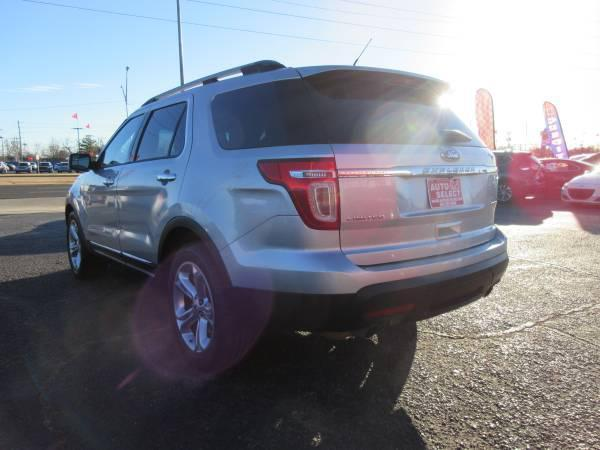Front_Left_Door: (78, 164, 123, 261)
Front_Left_Window: (91, 113, 146, 168)
Left_Taillight: (257, 158, 342, 231)
Rear_Bumper: (216, 214, 508, 328)
Rear_Fender: (172, 79, 333, 250)
Rear_Left_Door: (115, 153, 189, 281)
Rear_Left_Window: (133, 103, 189, 162)
Rear_Windshield: (305, 78, 489, 149)
Roof: (126, 64, 451, 118)
Tailgate: (332, 140, 499, 264)
Wheel: (170, 246, 248, 365), (63, 213, 85, 270)
